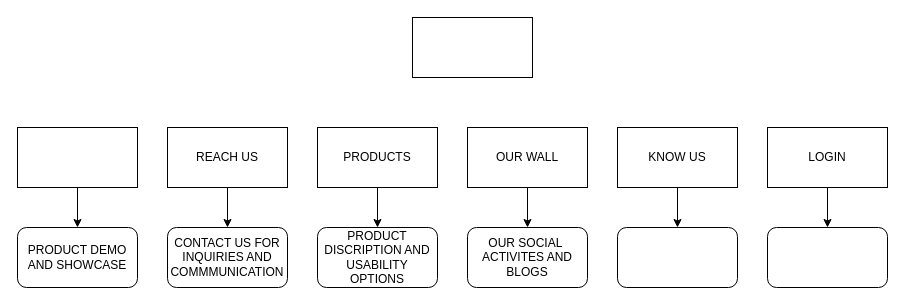
This 905x305 diagram has some shape labels left out. The shapes that lost their labels are listed below. From the top down, each one's box as (x1, y1, x2, y2) in pixels, then its label:
(412, 16, 532, 78): HOME
(16, 126, 138, 188): EXPERIENCE
(616, 226, 738, 288): OUR WORK SHOWCASE AND OUR VISION AND GALLERY
(766, 226, 888, 288): MY PROFILE
